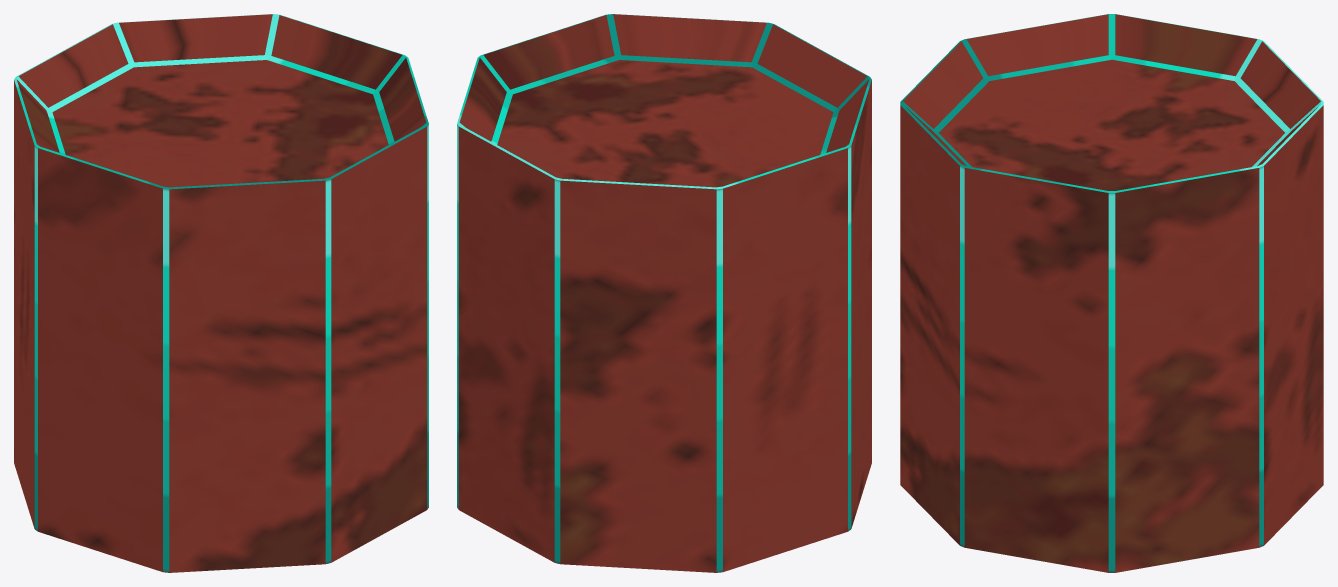
The model's file is CYLINDER_OPAQUE.glb.
3 renders of one model, left to right at view 1: azimuth 30°, elevation 25°; view 2: azimuth 150°, elevation 25°; view 3: azimuth 270°, elevation 25°, orthographic.
Visible parts, largest first — view 1: Cylinder.021; view 2: Cylinder.021; view 3: Cylinder.021.
Boxes of the visible parts, x1,y1,x2,y2 form: Cylinder.021: [14, 14, 428, 572]; Cylinder.021: [457, 14, 871, 572]; Cylinder.021: [900, 14, 1323, 572].
Bounding box in the file's own units: 2.01 × 2 × 2.01.
Materials: 2 (2 with a texture image).
